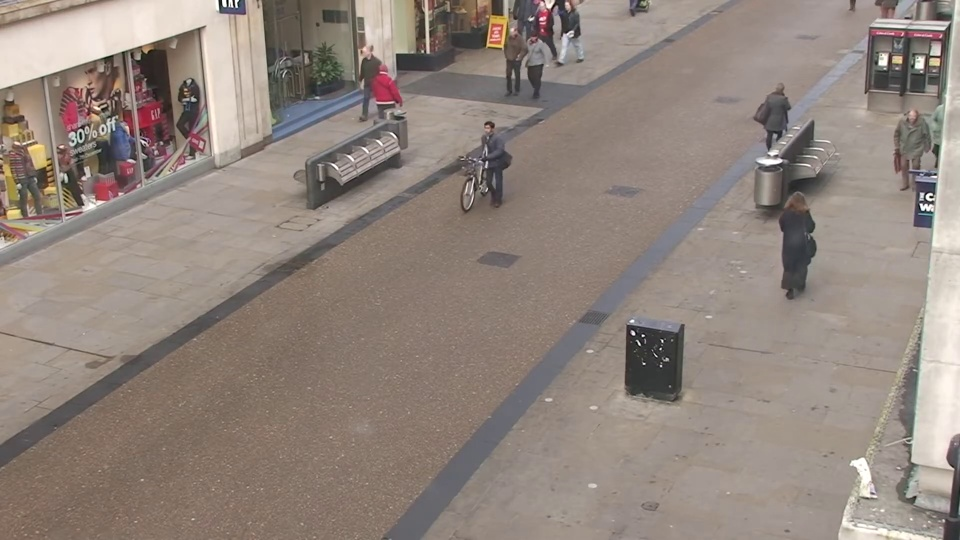pedestrian: (777, 186, 819, 301), (885, 109, 929, 206), (468, 120, 502, 217), (764, 78, 797, 165), (367, 68, 397, 150), (349, 45, 377, 120), (519, 31, 544, 103), (498, 27, 523, 97)
